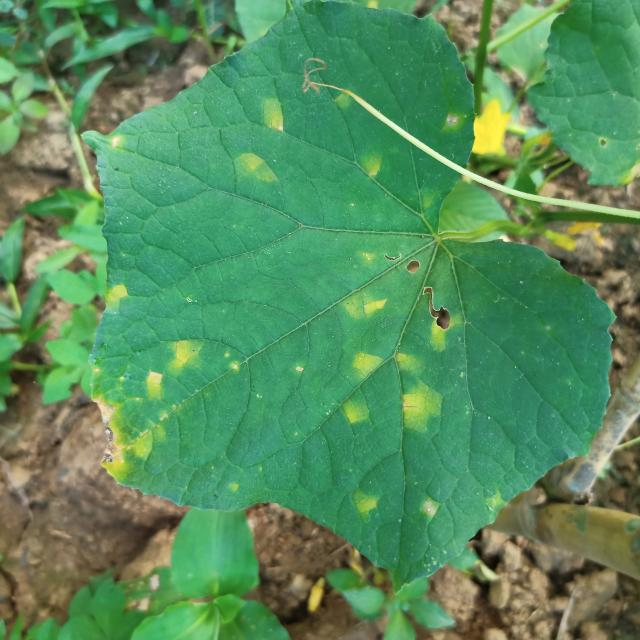disease_cucumber: (340, 245, 458, 456), (95, 334, 211, 484), (228, 85, 297, 199), (355, 146, 395, 206), (342, 484, 389, 530), (96, 275, 131, 317)
